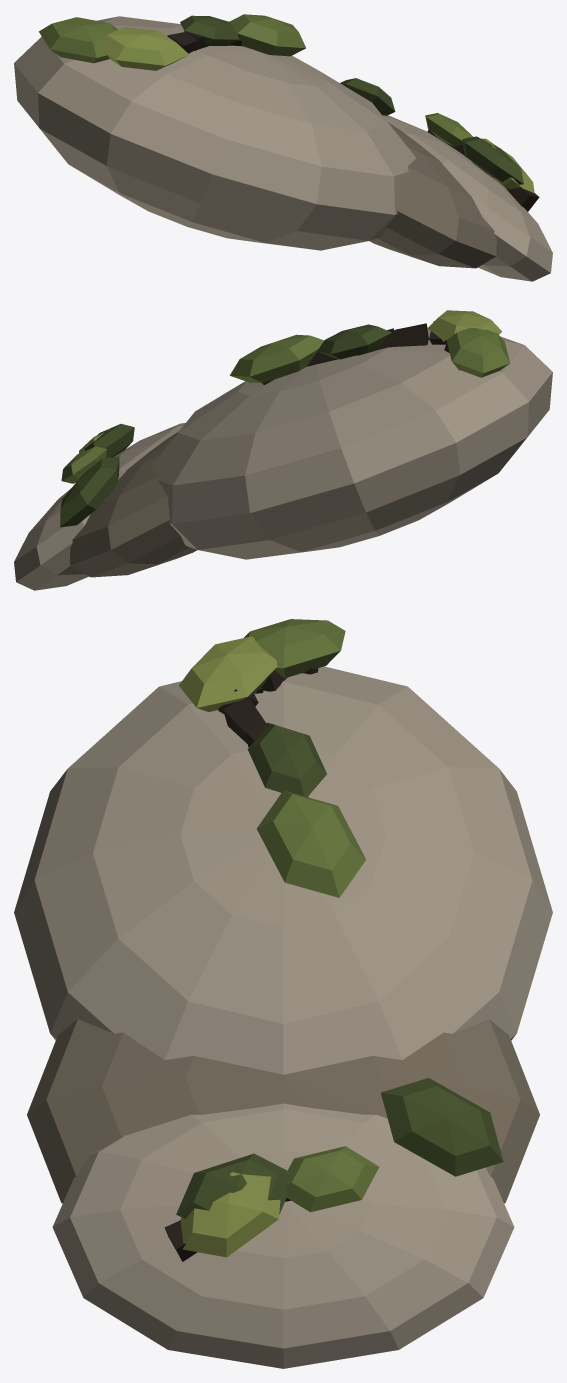
The model's file is petrified_pauldron_l.glb.
3 views of the same model, one above another, from view 1: azimuth 30°, elevation 25°; view 2: azimuth 150°, elevation 25°; view 3: azimuth 270°, elevation 25° (orthographic). The views are drawn at different scales.
Parts seen in each view (by area): view 1: petrified_pauldron_l; view 2: petrified_pauldron_l; view 3: petrified_pauldron_l.
Boxes of the visible parts, left/top/right/bottom form: petrified_pauldron_l: left=14, top=14, right=552, bottom=281; petrified_pauldron_l: left=14, top=310, right=552, bottom=590; petrified_pauldron_l: left=14, top=619, right=552, bottom=1368.
Bounding box in the file's own units: 0.6036 × 0.3959 × 0.42.
